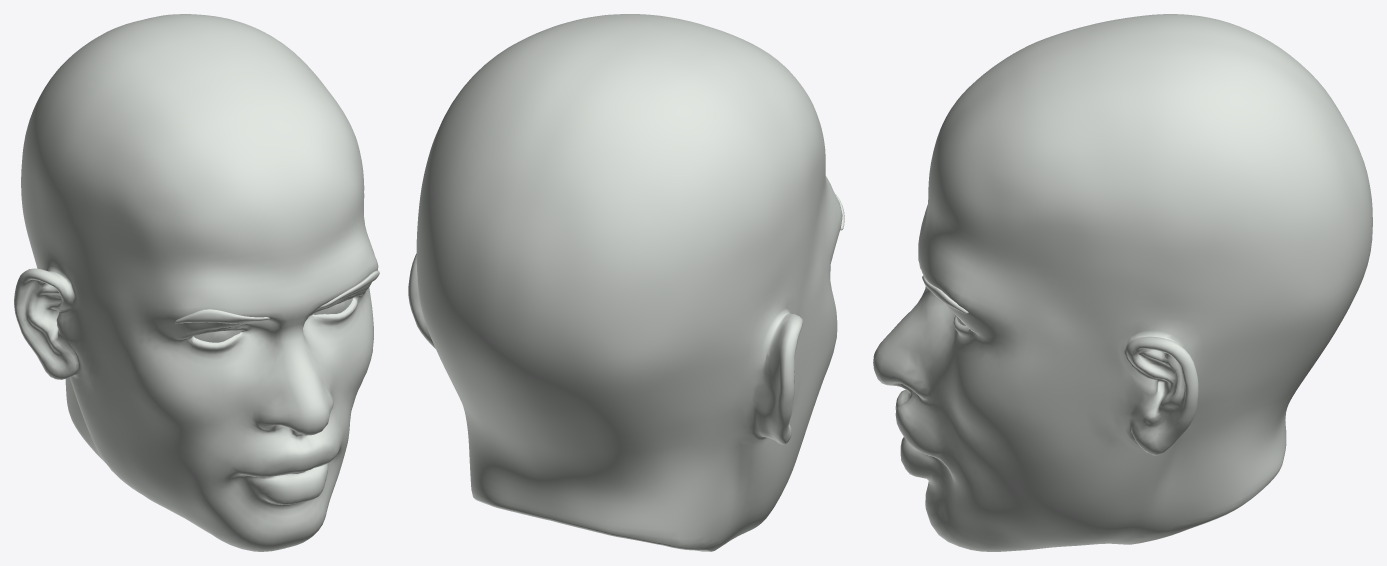
The model's file is male_head.fbx.
The picture shows the model from 3 angles, left to right: view 1: azimuth 30°, elevation 25°; view 2: azimuth 150°, elevation 25°; view 3: azimuth 270°, elevation 25°; orthographic projection. The views are drawn at different scales.
Visible parts, largest first — view 1: node_id36; view 2: node_id36; view 3: node_id36.
Boxes of the visible parts, x1,y1,x2,y2 form: node_id36: (14,14,379,551); node_id36: (408,14,844,551); node_id36: (873,14,1372,551).
Bounding box in the file's own units: 0.3847 × 0.512 × 0.4611.
1 material, 1 textured.
